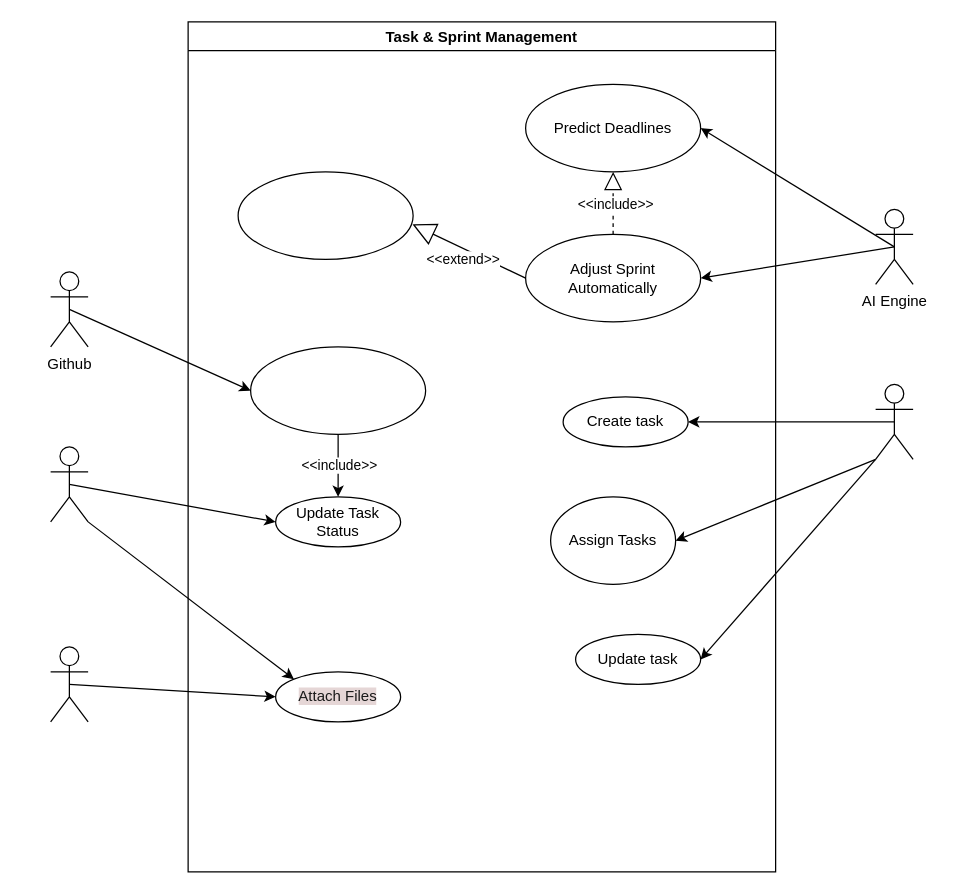
Some shapes in this 966 by 894 pixel diagram are drawn without their labels. The box of each missing label's shape, as (x1, y1, x2, y2) in pixels:
Google Drive: (49, 646, 88, 722)
Project manger: (874, 383, 913, 459)
Reassign Resources: (237, 171, 413, 259)
Sync with GitHub: (249, 346, 426, 434)
Team member: (49, 446, 88, 522)
